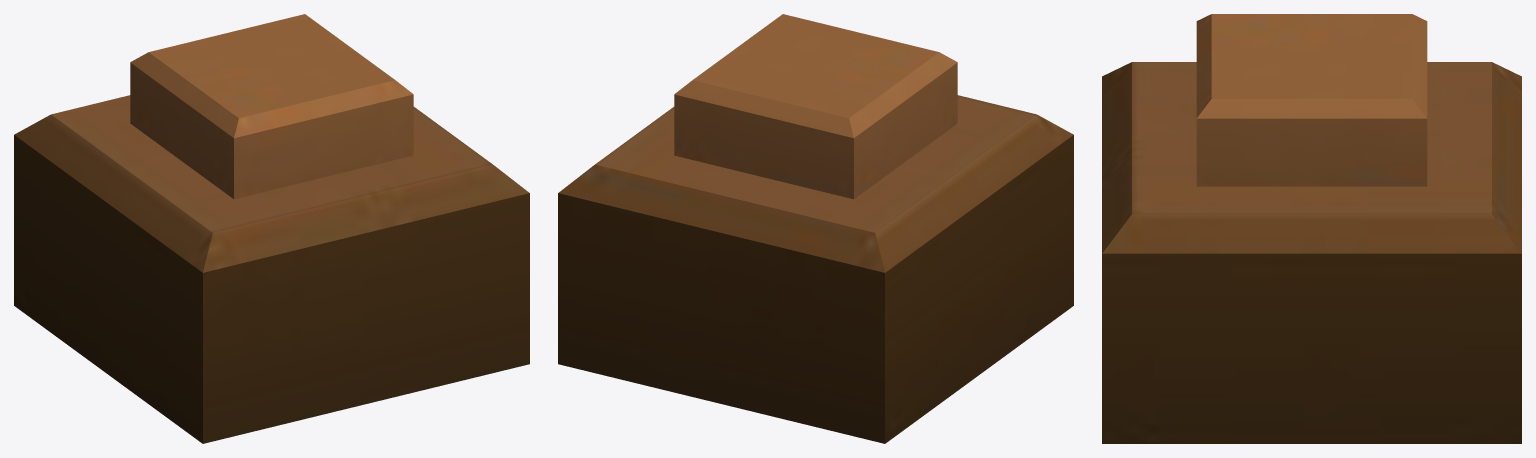
The model's file is oil-refinery.glb.
The picture shows the model from 3 angles, left to right: view 1: azimuth 30°, elevation 25°; view 2: azimuth 150°, elevation 25°; view 3: azimuth 270°, elevation 25°; orthographic projection. The views are drawn at different scales.
Parts seen in each view (by area): view 1: oil-refinery; view 2: oil-refinery; view 3: oil-refinery.
Boxes of the visible parts, x1,y1,x2,y2 form: oil-refinery: (14, 14, 529, 443); oil-refinery: (558, 14, 1073, 443); oil-refinery: (1102, 14, 1521, 443).
Size of the model in its own units: 0.28 by 0.22 by 0.28.
Materials: 1 (1 with a texture image).
